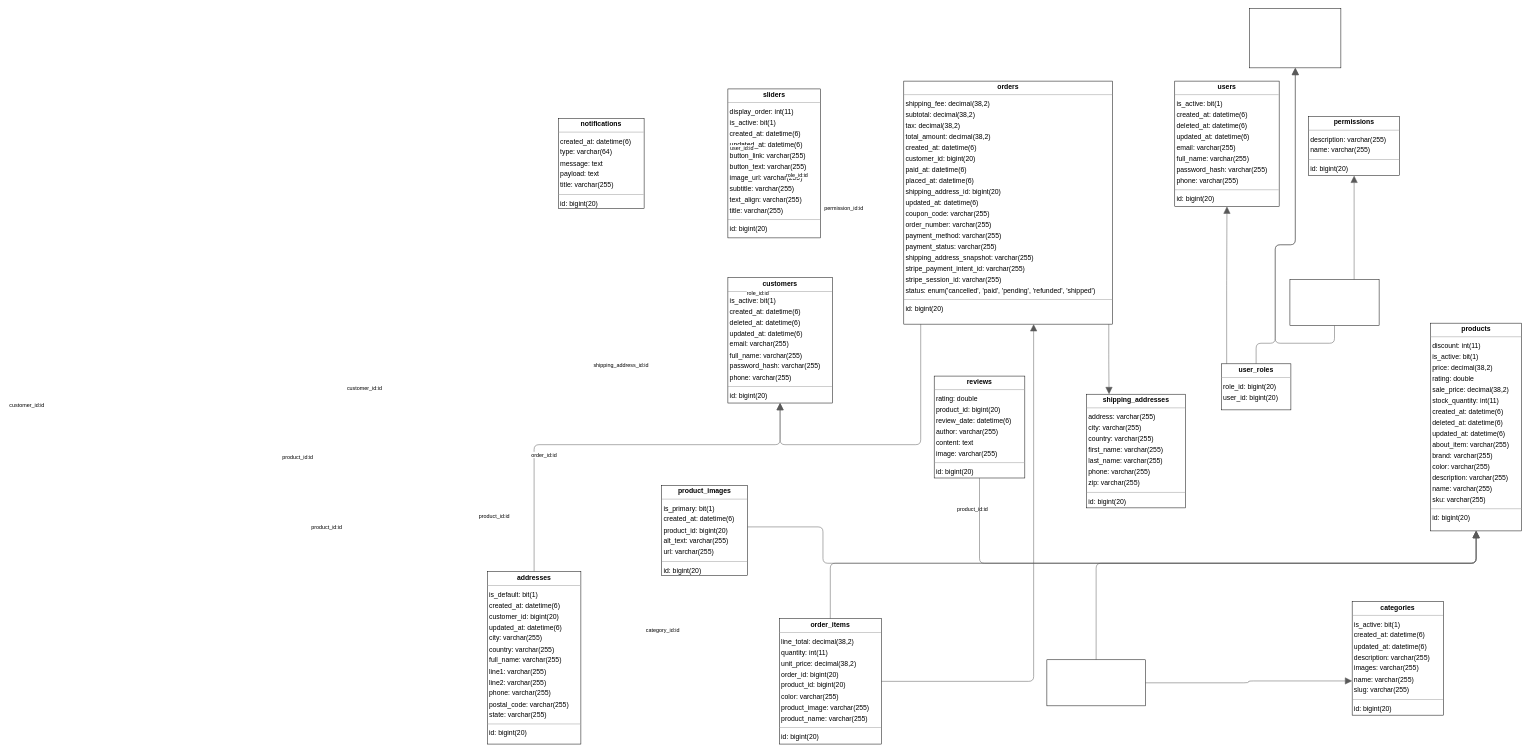
Image size: 1530x753. Some labels were removed from this diagram. Here are the shapes that lost their labels. From the top down, the box of each, then its label:
(1249, 8, 1341, 68): roles description: varchar(255) name: varchar(255) id: bigint(20)
(1289, 279, 1379, 326): role_permissions permission_id: bigint(20) role_id: bigint(20)
(1046, 659, 1145, 706): product_categories category_id: bigint(20) product_id: bigint(20)
